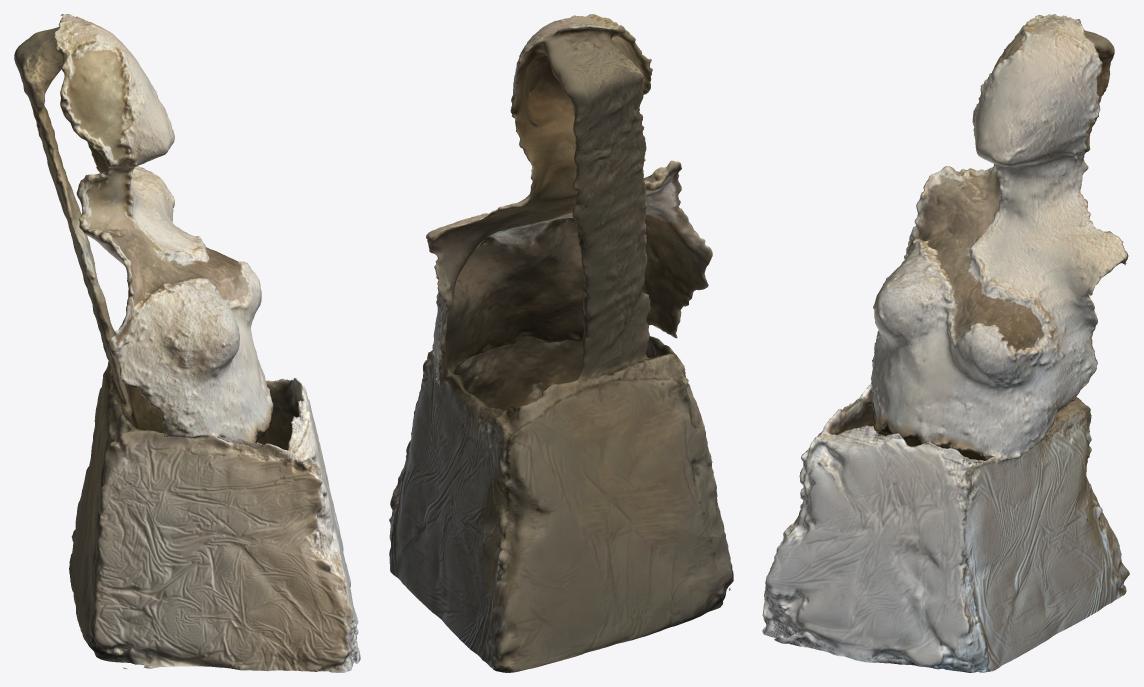
Rendered from FA-004-meshopt.glb.
3 views of the same model, side by side, from view 1: azimuth 30°, elevation 25°; view 2: azimuth 150°, elevation 25°; view 3: azimuth 270°, elevation 25° (orthographic). The views are drawn at different scales.
Parts seen in each view (by area): view 1: 3DModel; view 2: 3DModel; view 3: 3DModel.
Part boxes in pixels (x1=…): 3DModel: x1=14, y1=14, x2=360, y2=672; 3DModel: x1=389, y1=14, x2=733, y2=672; 3DModel: x1=762, y1=14, x2=1129, y2=672.
Size of the model in its own units: 0.4991 by 0.9799 by 0.5886.
Materials: 1 (1 with a texture image).
